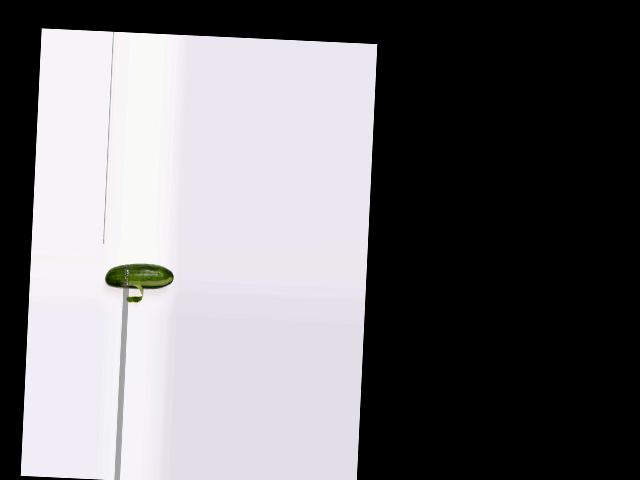cucumber: (104, 262, 174, 291)
